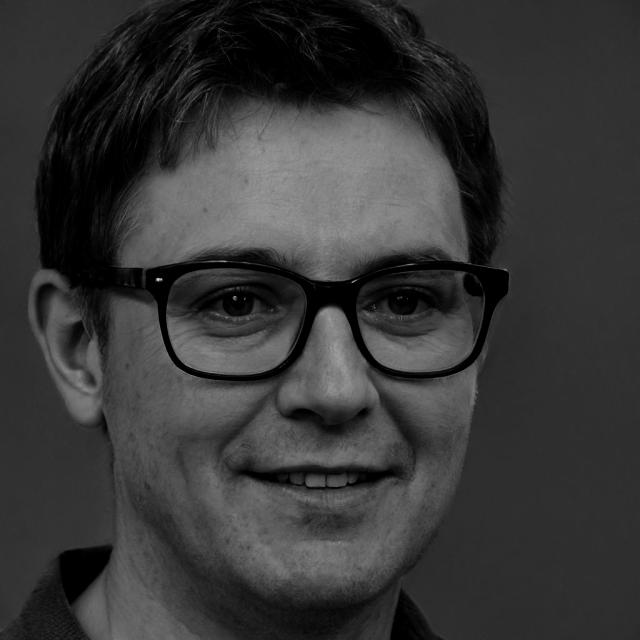lens: (166, 268, 308, 377), (356, 269, 486, 373)
